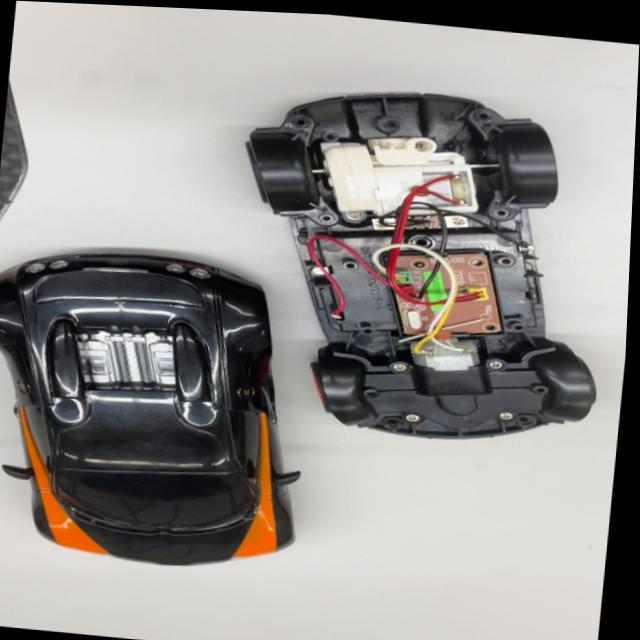Chassis: (309, 67, 628, 476)
vehicle_body: (0, 235, 316, 587)
